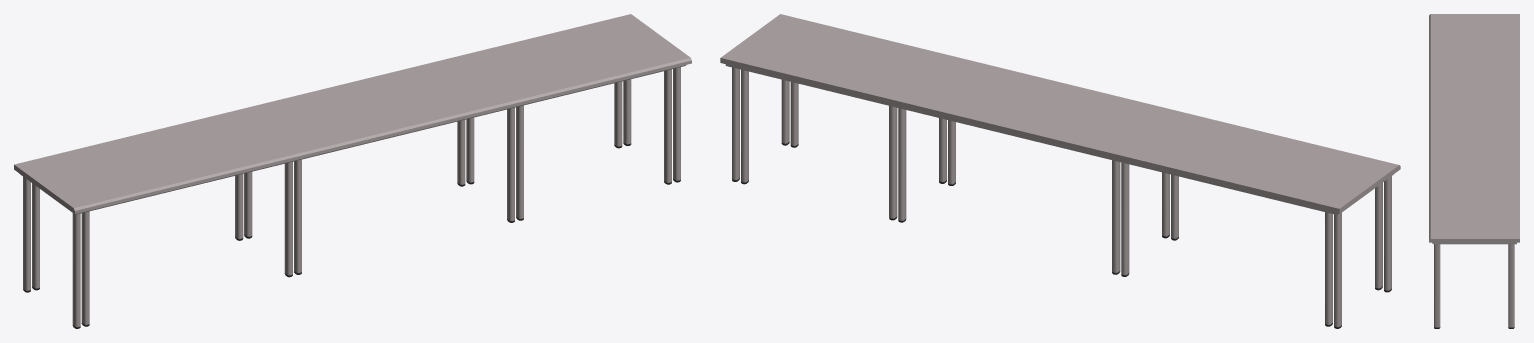
The model's file is mesa.fbx.
3 renders of one model, left to right at view 1: azimuth 30°, elevation 25°; view 2: azimuth 150°, elevation 25°; view 3: azimuth 270°, elevation 25°, orthographic. The views are drawn at different scales.
Visible parts, largest first — view 1: Plane.001; view 2: Plane.001; view 3: Plane.001.
Boxes of the visible parts, left/top/right/bottom form: Plane.001: left=14, top=14, right=691, bottom=328; Plane.001: left=720, top=14, right=1400, bottom=328; Plane.001: left=1429, top=14, right=1519, bottom=328.
Bounding box in the file's own units: 391 × 75.34 × 66.74.
1 material, 1 textured.
